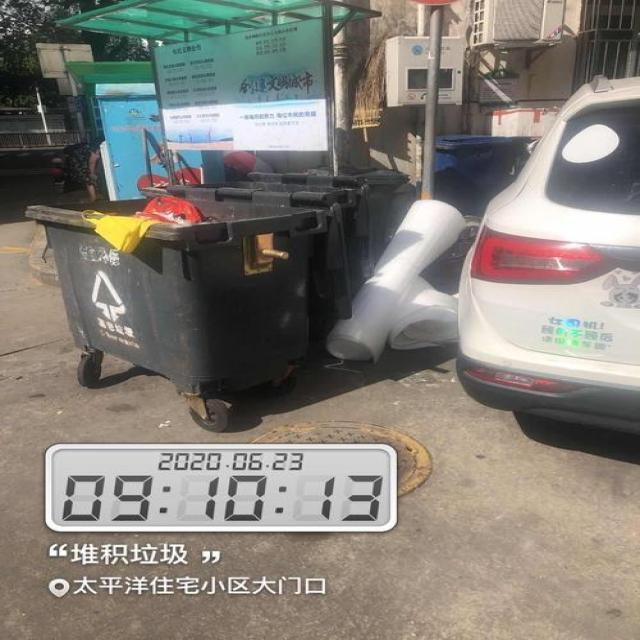overflow: (23, 193, 347, 394)
